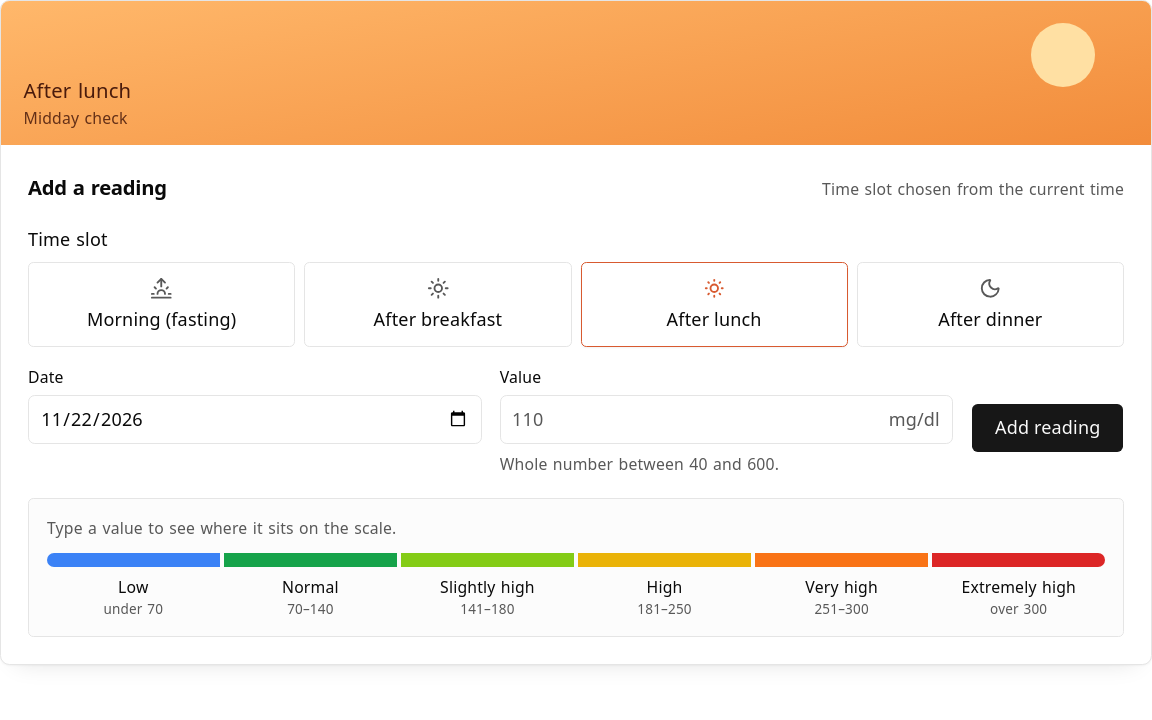
Test: AddReadingCard: time slots and the colour scale › explains where the typed value sits on the scale
Expected: the text "Type a value to see where it sits on the scale." is shown, [47, 517, 396, 539]
Type "196" into the field labelled "Value".
click(727, 419); type("196")  # box [500, 394, 953, 444]
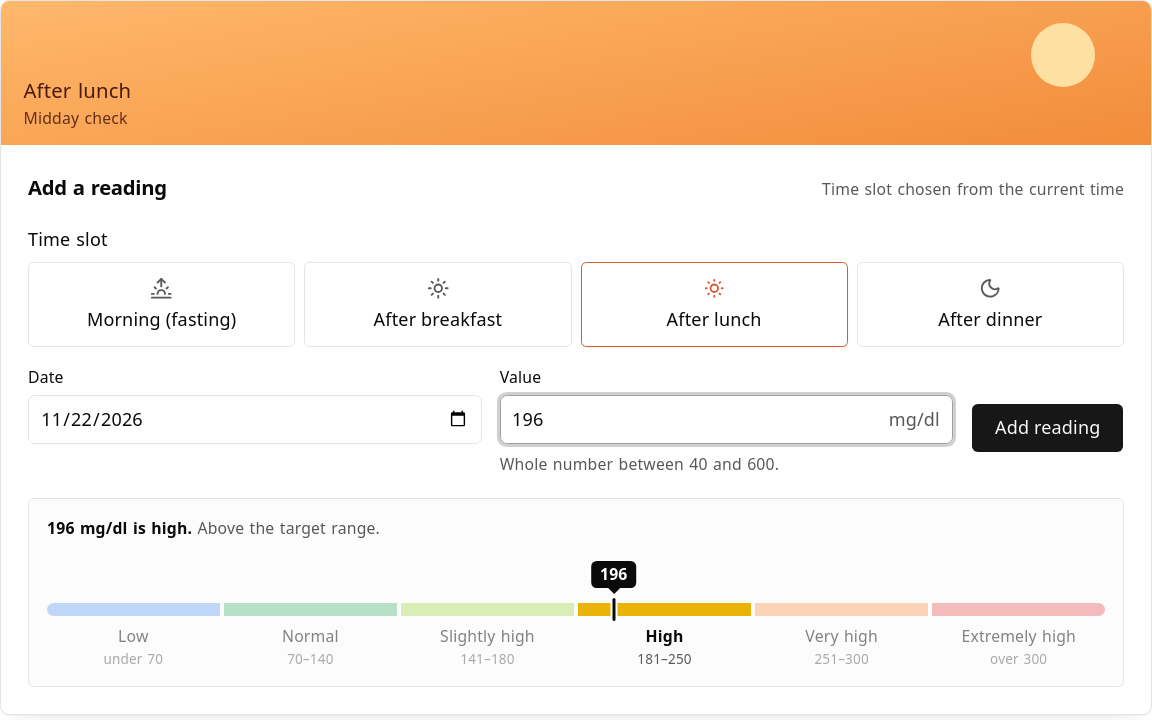
Expected: the text "196 mg/dl is high." is shown, [47, 517, 192, 539]
